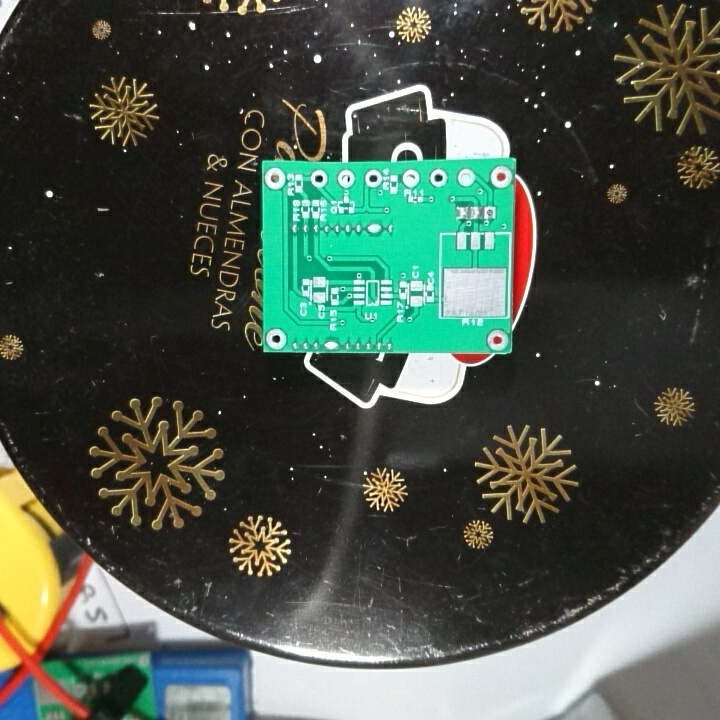F: (264, 326, 290, 353), (263, 164, 286, 192), (490, 165, 513, 191), (427, 166, 450, 191), (486, 326, 508, 352), (456, 165, 476, 189), (364, 168, 382, 194), (400, 168, 421, 190), (336, 168, 356, 191), (481, 203, 499, 225), (309, 166, 327, 188)
P: (364, 220, 384, 238), (321, 339, 341, 354)
